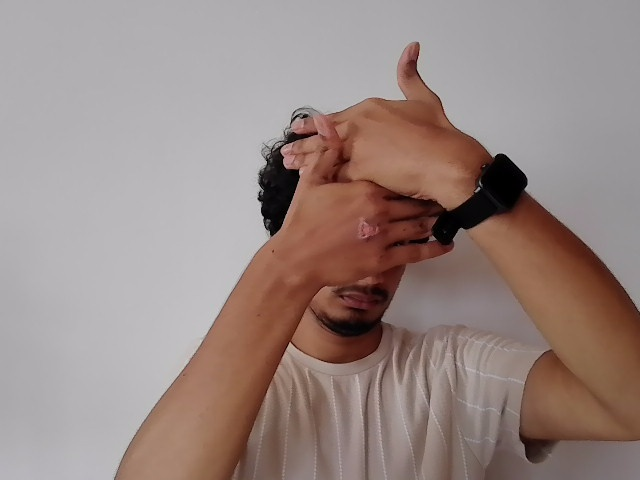work: (273, 33, 468, 281)
